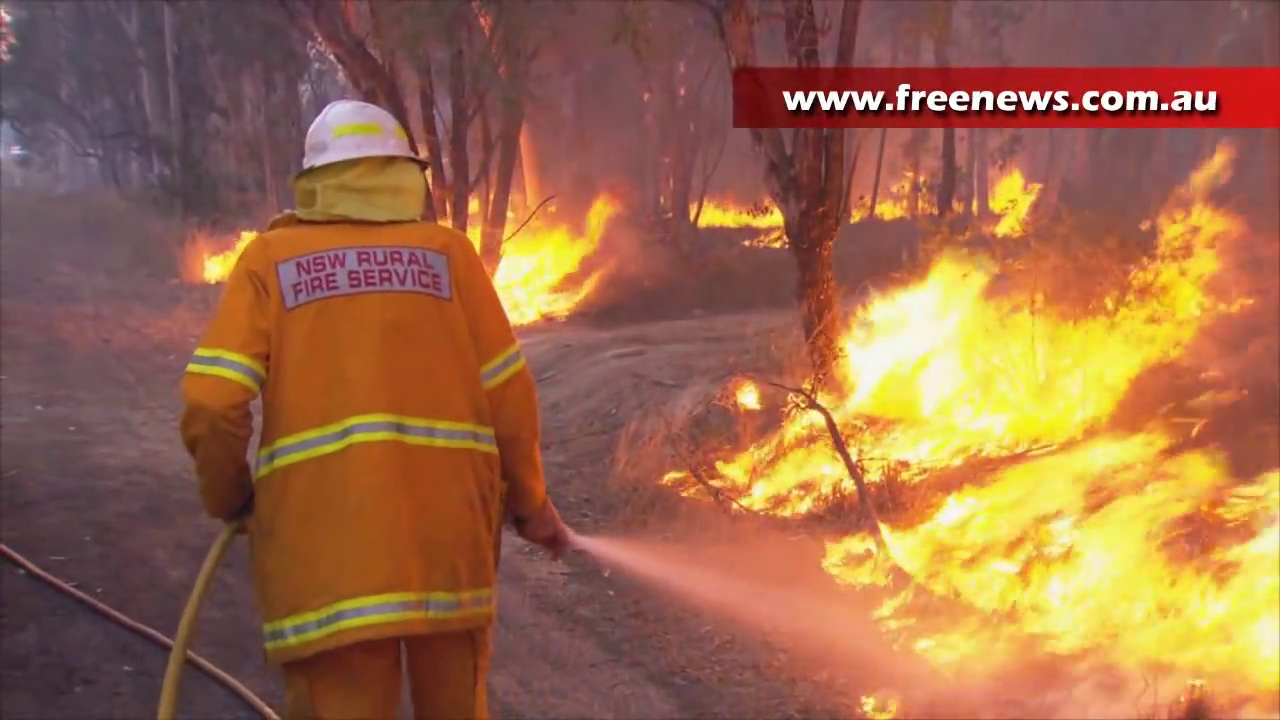fire: (723, 277, 1280, 720), (1160, 168, 1237, 322), (492, 220, 571, 312), (995, 172, 1037, 236), (699, 204, 773, 225), (207, 254, 231, 280), (880, 198, 902, 216)
